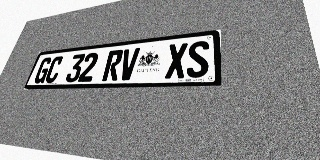2: (78, 52, 99, 82)
3: (64, 53, 86, 82)
C: (44, 56, 64, 83)
G: (33, 57, 53, 83)
R: (102, 49, 124, 81)
S: (186, 40, 209, 78)
V: (118, 48, 140, 80)
X: (165, 42, 188, 79)
